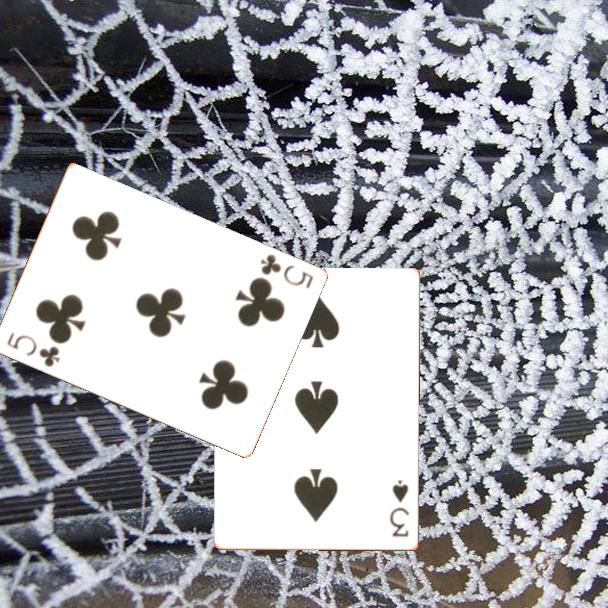c05: (256, 251, 316, 292), (3, 329, 62, 370)
s03: (386, 477, 412, 540)
